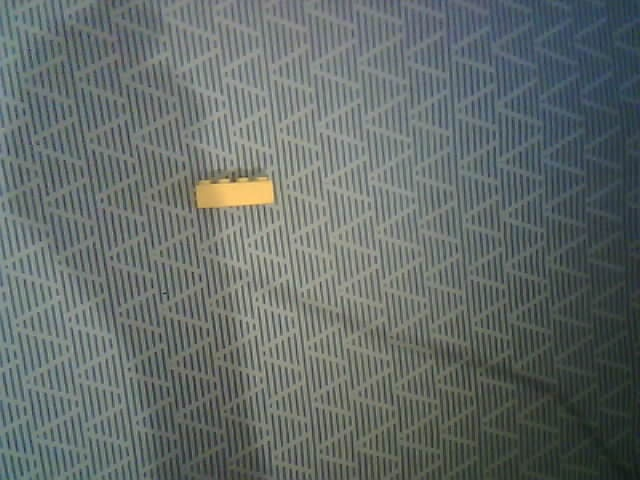lego: (194, 175, 275, 210)
